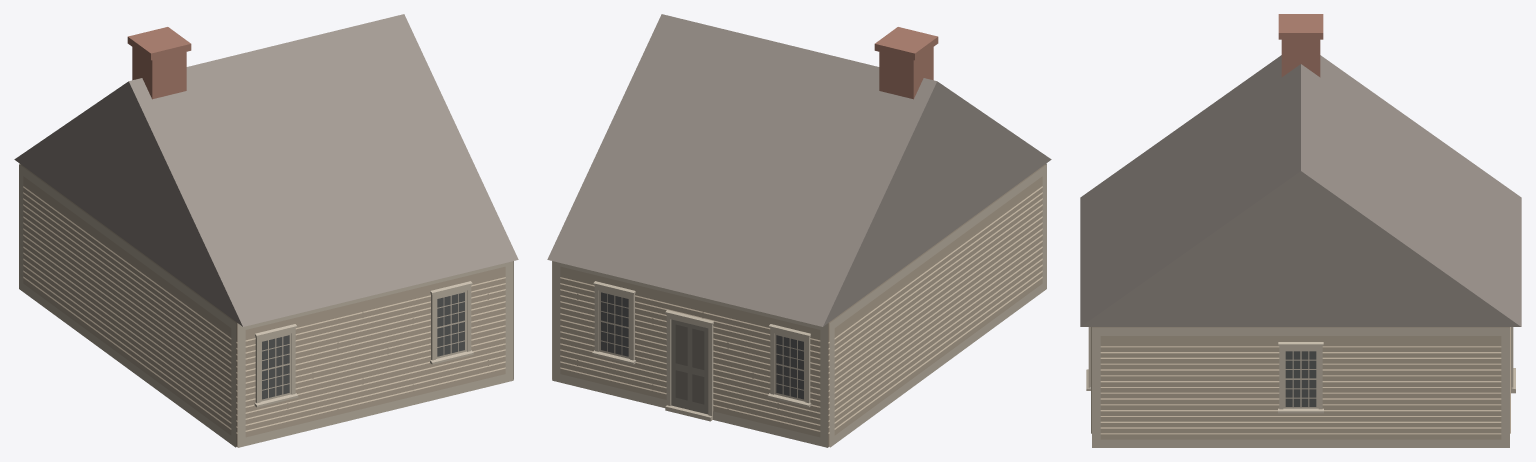
File: heacock_house_monroe__documented_1835.glb
3 renders of one model, left to right at view 1: azimuth 30°, elevation 25°; view 2: azimuth 150°, elevation 25°; view 3: azimuth 270°, elevation 25°, orthographic. The views are drawn at different scales.
Parts seen in each view (by area): view 1: heacock_house_monroe__documented_1835; view 2: heacock_house_monroe__documented_1835; view 3: heacock_house_monroe__documented_1835.
Part boxes in pixels (bbox=[...]): heacock_house_monroe__documented_1835: bbox=[14, 14, 518, 447]; heacock_house_monroe__documented_1835: bbox=[547, 14, 1051, 447]; heacock_house_monroe__documented_1835: bbox=[1080, 14, 1521, 447].
Size of the model in its own units: 6.86 by 7.45 by 9.64.
